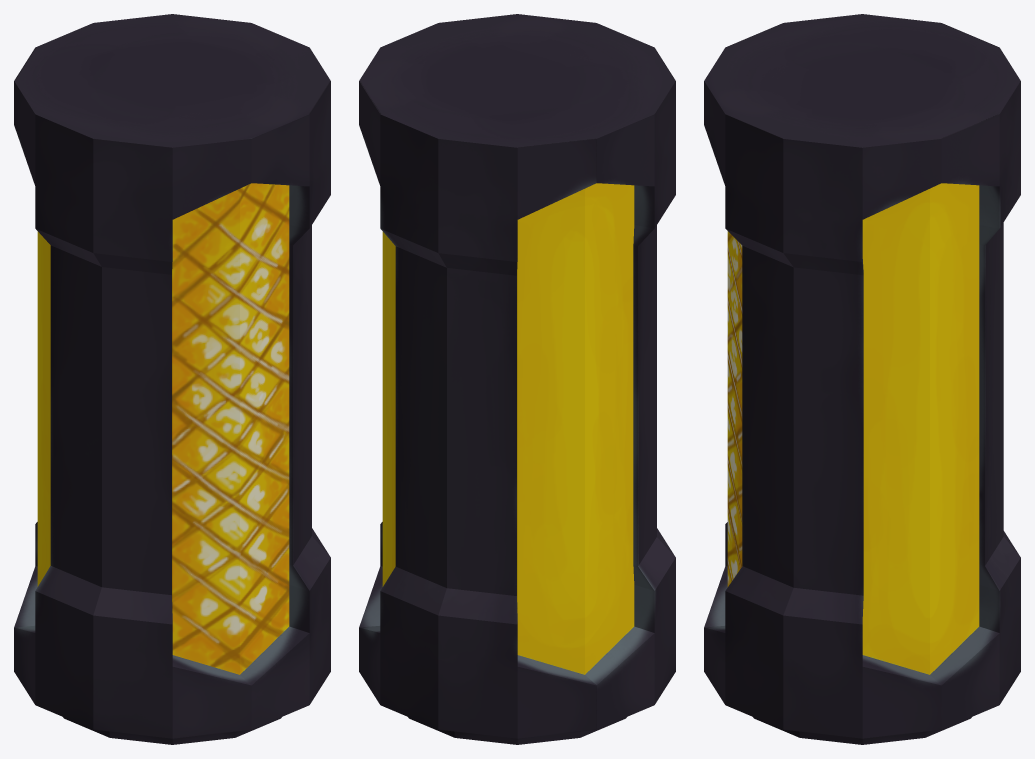
File: astronautLight.fbx
3 views of the same model, side by side, from view 1: azimuth 30°, elevation 25°; view 2: azimuth 150°, elevation 25°; view 3: azimuth 270°, elevation 25° (orthographic).
Visible parts, largest first — view 1: pCylinder1; view 2: pCylinder1; view 3: pCylinder1.
Boxes of the visible parts, bbox=[...] form: pCylinder1: bbox=[14, 14, 330, 744]; pCylinder1: bbox=[359, 14, 675, 744]; pCylinder1: bbox=[704, 14, 1020, 744].
Size of the model in its own units: 5.35 by 11.39 by 5.35.
Materials: 1 (1 with a texture image).
